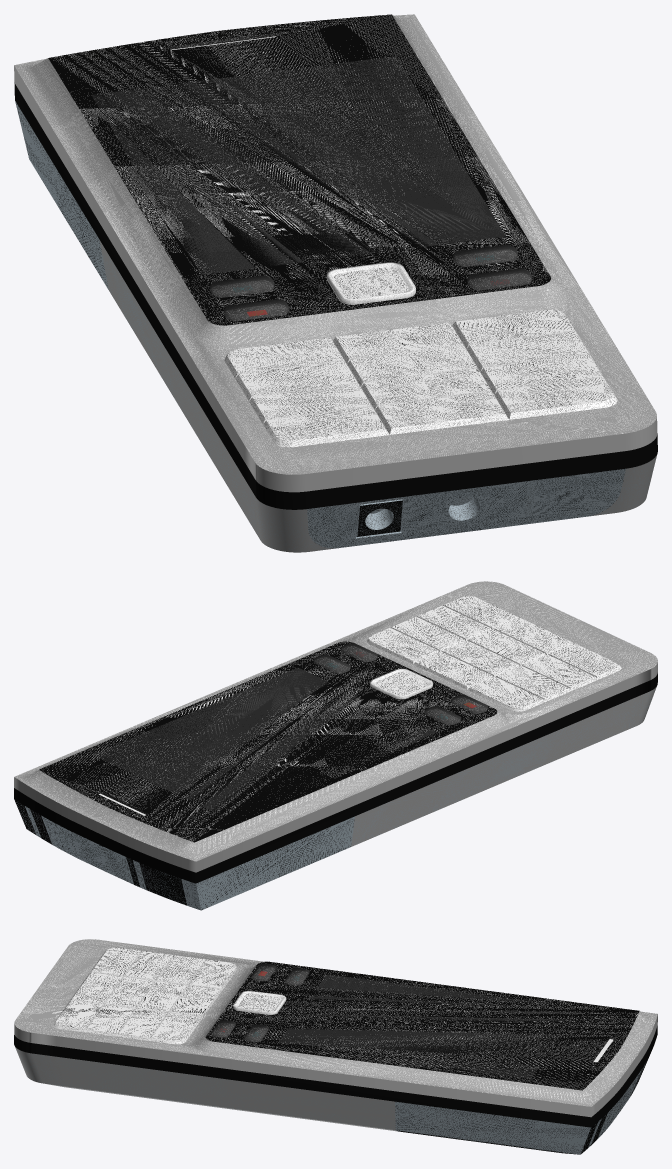
File: Cellphone_6.fbx
3 views of the same model, one above another, from view 1: azimuth 30°, elevation 25°; view 2: azimuth 150°, elevation 25°; view 3: azimuth 270°, elevation 25° (orthographic). The views are drawn at different scales.
Visible parts, largest first — view 1: Phone, Screen, Keyboard, Model, OnOff, Answer; view 2: Phone, Screen, Model, Keyboard; view 3: Phone, Model, Keyboard, Screen, Answer, OnOff.
Boxes of the visible parts, x1,y1,x2,y2 form: Phone: (14,14,657,552); Screen: (92,56,505,274); Keyboard: (227,310,613,440); Model: (14,33,657,538); OnOff: (467,268,532,290); Answer: (453,244,517,267); Phone: (14,581,657,910); Screen: (92,667,436,813); Model: (14,605,657,905); Keyboard: (369,596,618,707); Phone: (14,939,657,1154); Model: (14,950,657,1154); Keyboard: (56,947,236,1040); Screen: (278,974,577,1078); Answer: (244,1024,269,1042); OnOff: (211,1020,236,1037).
Size of the model in its own units: 6.85 by 1.43 by 11.2.
